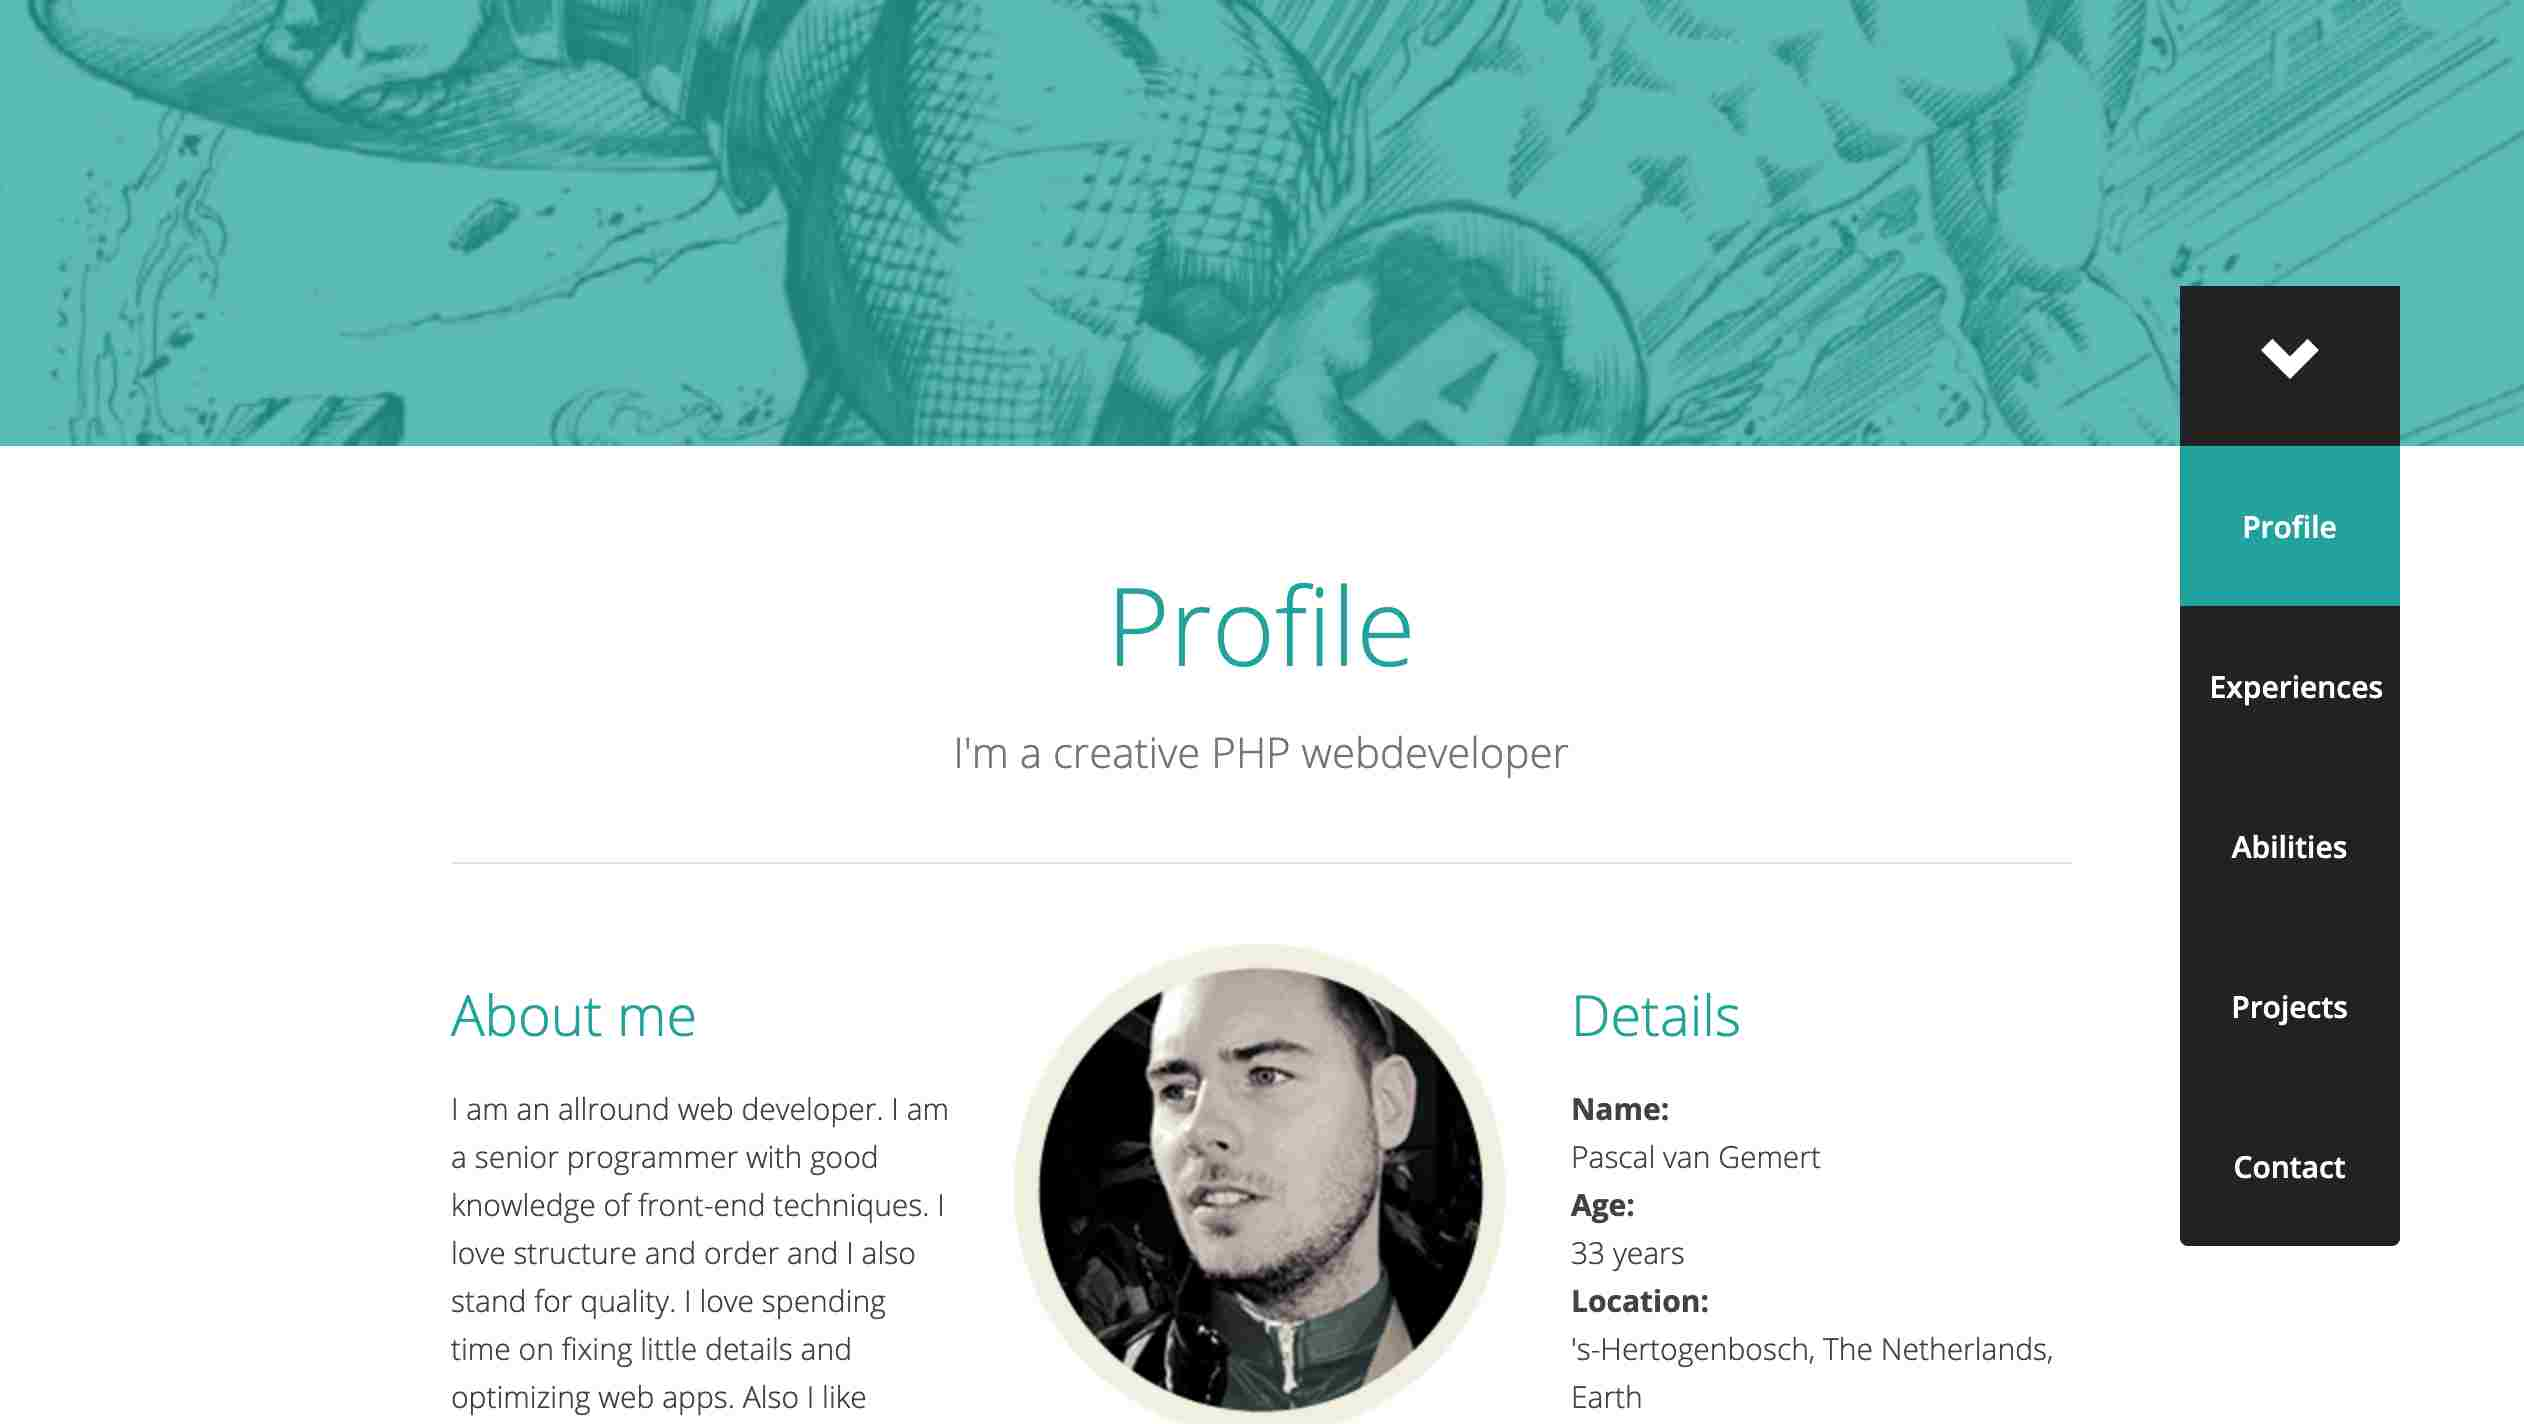Button: (2182, 286, 2391, 435)
Image: (1026, 942, 1499, 1424)
Menu Bar: (2182, 286, 2404, 1245)
Side Bar: (1545, 945, 2096, 1424)
